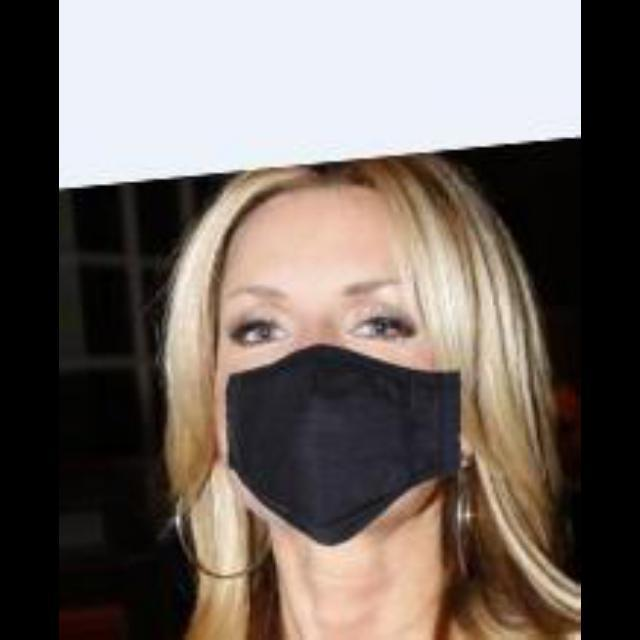suspicion: (172, 158, 500, 578)
